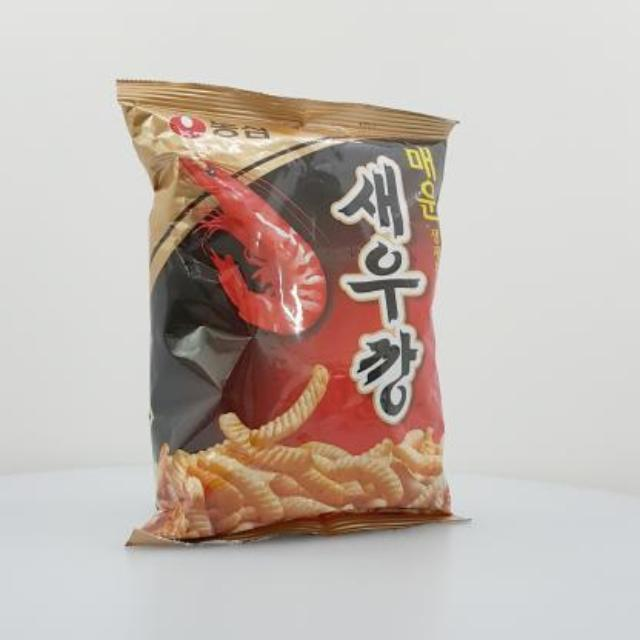snack_bag: (108, 69, 490, 558)
